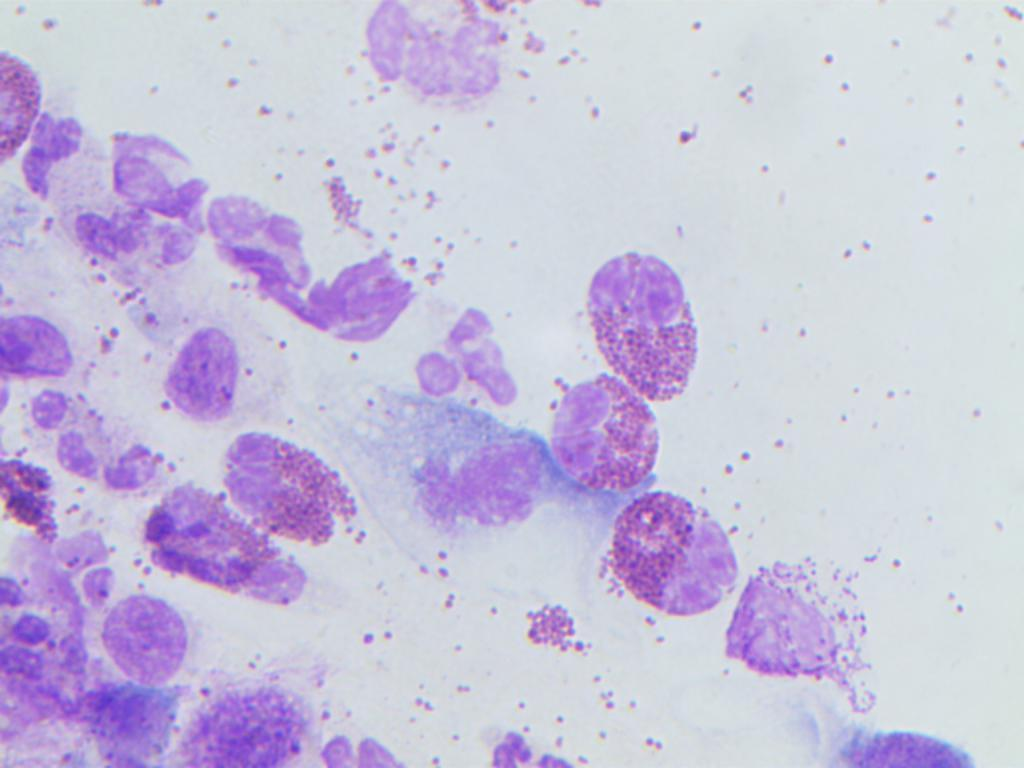artifact: (724, 539, 906, 684), (362, 0, 523, 110), (302, 244, 422, 354), (108, 130, 210, 222), (0, 449, 61, 539)
eosinophil: (572, 249, 713, 395), (140, 483, 302, 602), (222, 421, 366, 552), (599, 489, 741, 616), (0, 529, 86, 730), (547, 370, 663, 493), (0, 24, 77, 189), (522, 596, 598, 664)
epithelial: (160, 664, 332, 768), (416, 442, 551, 535), (149, 308, 246, 429), (104, 584, 197, 686), (0, 299, 79, 382)
lymphocyte: (75, 676, 174, 768)
neutrophil: (29, 389, 169, 502), (61, 191, 207, 289), (406, 309, 530, 418), (213, 188, 311, 304), (490, 731, 583, 768)
